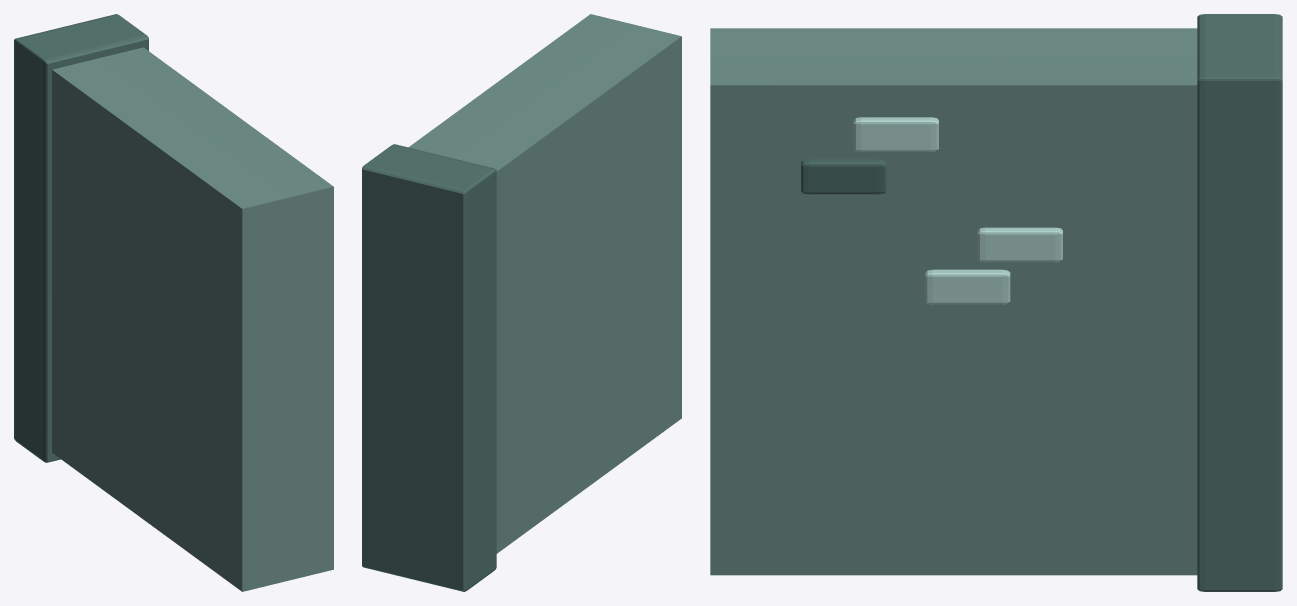
The model's file is wall_t1_pillar_right.fbx.
3 views of the same model, side by side, from view 1: azimuth 30°, elevation 25°; view 2: azimuth 150°, elevation 25°; view 3: azimuth 270°, elevation 25° (orthographic). The views are drawn at different scales.
Visible parts, largest first — view 1: wallwPillar 2; view 2: wallwPillar 2; view 3: wallwPillar 2.
Boxes of the visible parts, x1,y1,x2,y2 form: wallwPillar 2: (14,14,333,591); wallwPillar 2: (362,14,681,591); wallwPillar 2: (710,14,1282,591).
Size of the model in its own units: 114 by 420 by 423.
